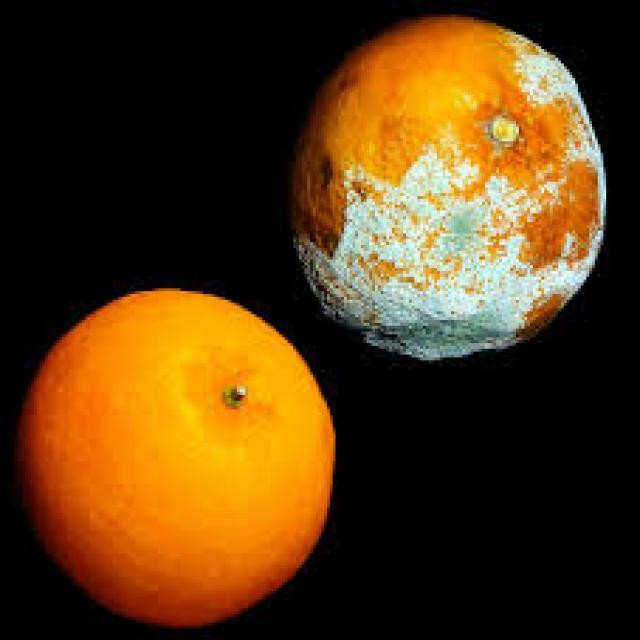organic waste: (285, 9, 603, 358), (17, 282, 333, 622)
